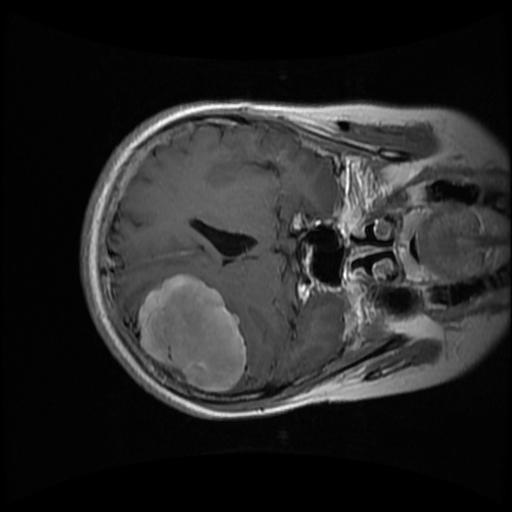meningioma: (137, 274, 247, 391)
